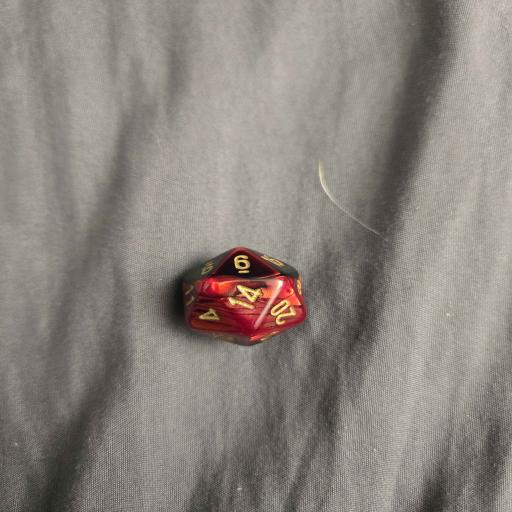twenty sided dice: (180, 247, 306, 346)
